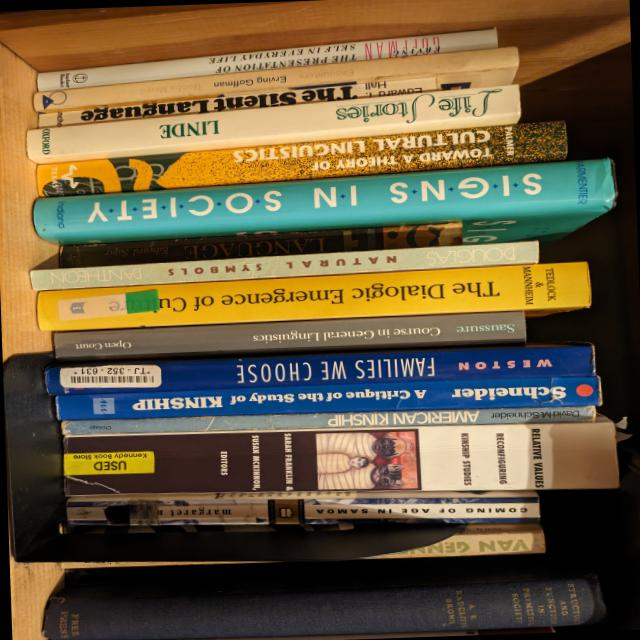book: (30, 158, 617, 271), (61, 416, 618, 507), (34, 119, 568, 204), (23, 83, 521, 168), (34, 262, 590, 332), (42, 574, 604, 640), (31, 46, 520, 115), (34, 27, 497, 92), (44, 343, 594, 396), (55, 375, 600, 424), (28, 240, 539, 292), (52, 310, 525, 361), (36, 74, 439, 129), (57, 221, 462, 269), (65, 489, 539, 527), (61, 405, 594, 435), (376, 521, 543, 558)
